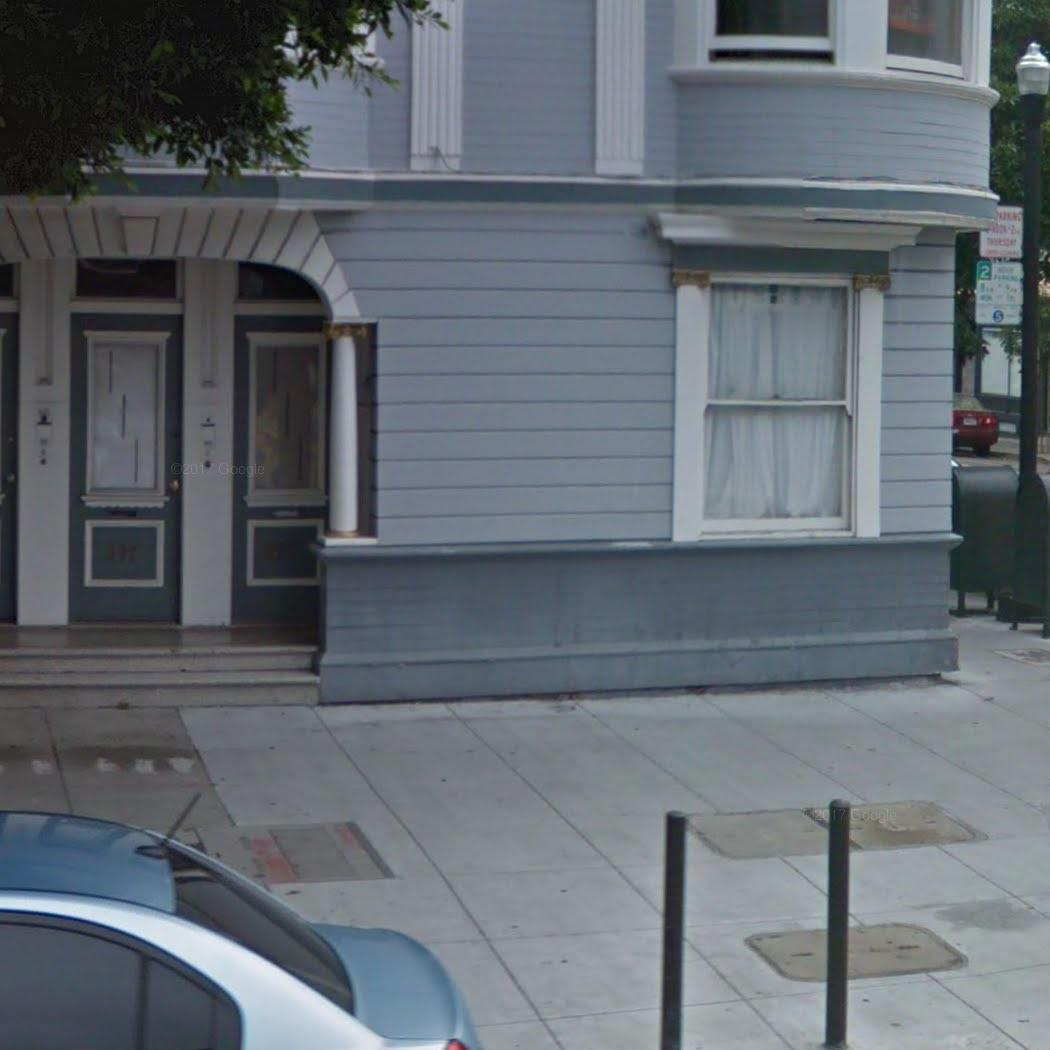2 Hour Parking: (975, 259, 1025, 327)
No Parking: (978, 205, 1025, 259)
